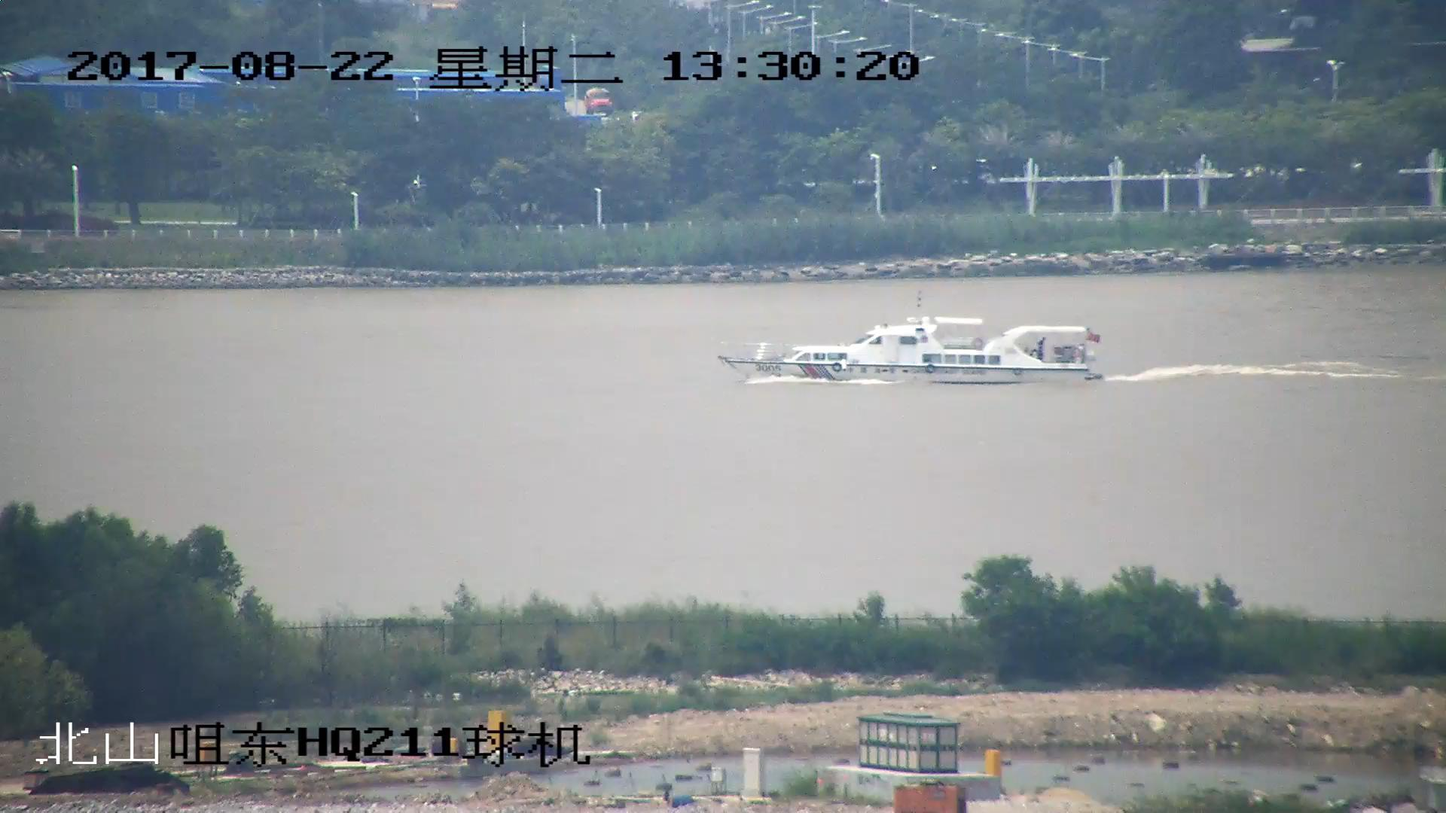passenger ship: (718, 318, 1106, 385)
